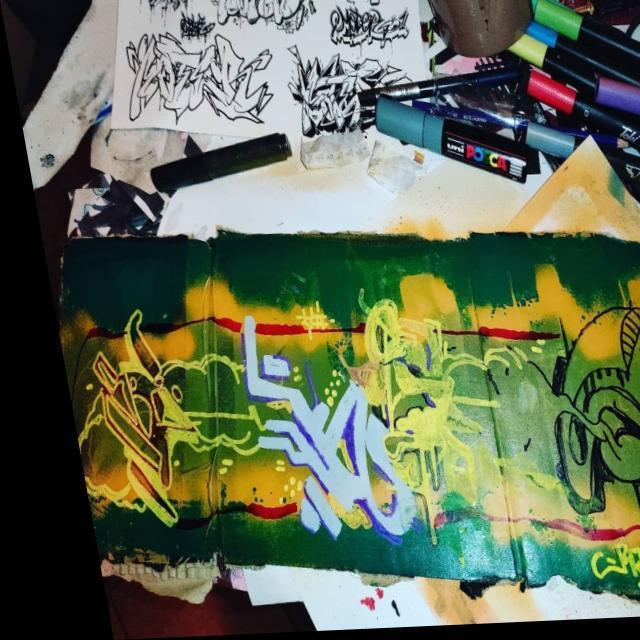-: (174, 266, 494, 586), (522, 272, 640, 530), (121, 31, 284, 142), (278, 42, 428, 146), (556, 522, 640, 610), (323, 0, 414, 63), (174, 11, 216, 48)
